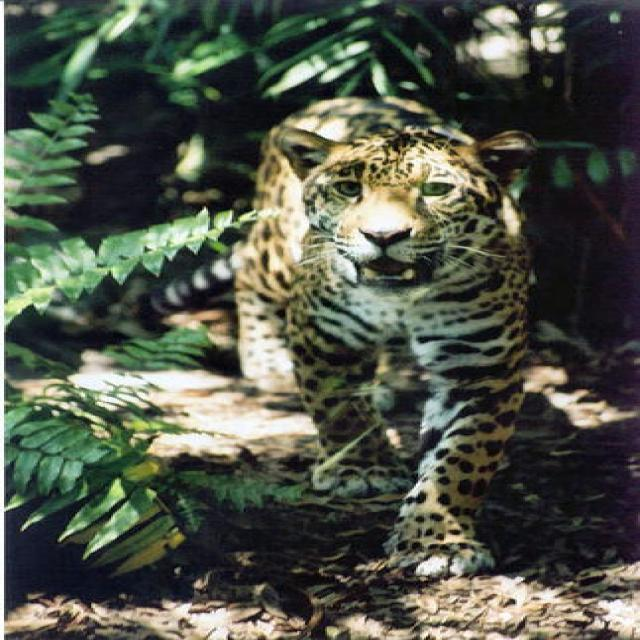Leopard: (222, 90, 537, 581)
